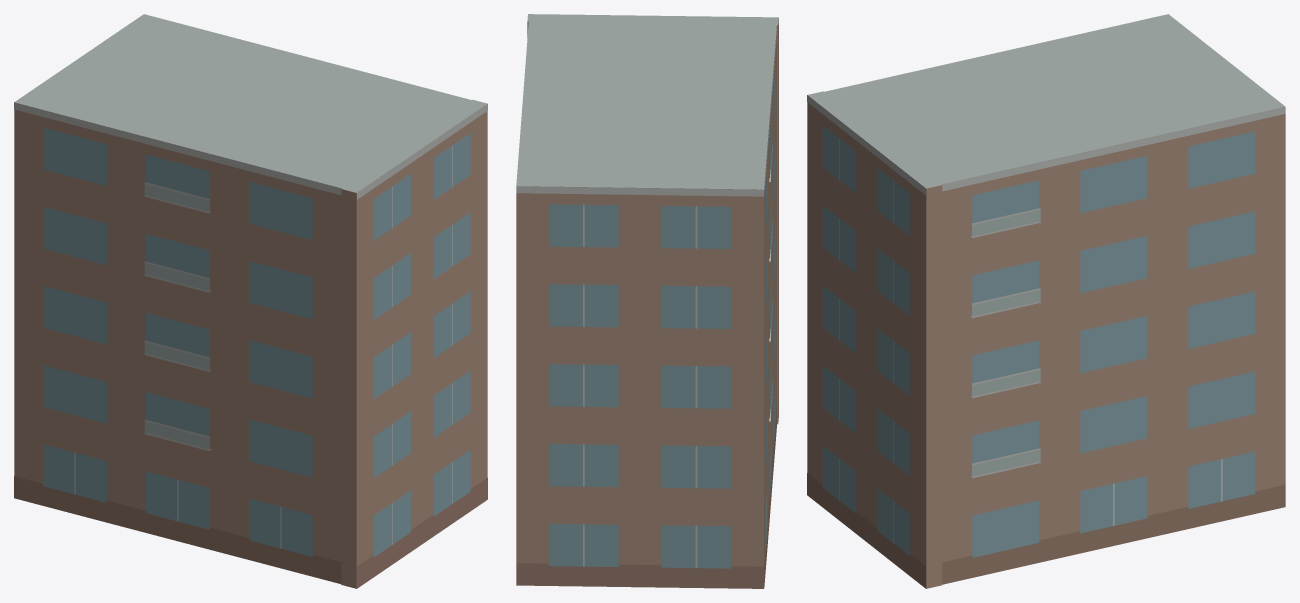
Rendered from survey-upis-32884342.glb.
3 renders of one model, left to right at view 1: azimuth 30°, elevation 25°; view 2: azimuth 150°, elevation 25°; view 3: azimuth 270°, elevation 25°, orthographic.
Visible parts, largest first — view 1: survey-upis-32884342.tmp; view 2: survey-upis-32884342.tmp; view 3: survey-upis-32884342.tmp.
Part boxes in pixels (x1=…): survey-upis-32884342.tmp: x1=14, y1=14, x2=487, y2=588; survey-upis-32884342.tmp: x1=516, y1=14, x2=778, y2=588; survey-upis-32884342.tmp: x1=807, y1=14, x2=1285, y2=588.
Size of the model in its own units: 12.82 by 13.7 by 14.85.
